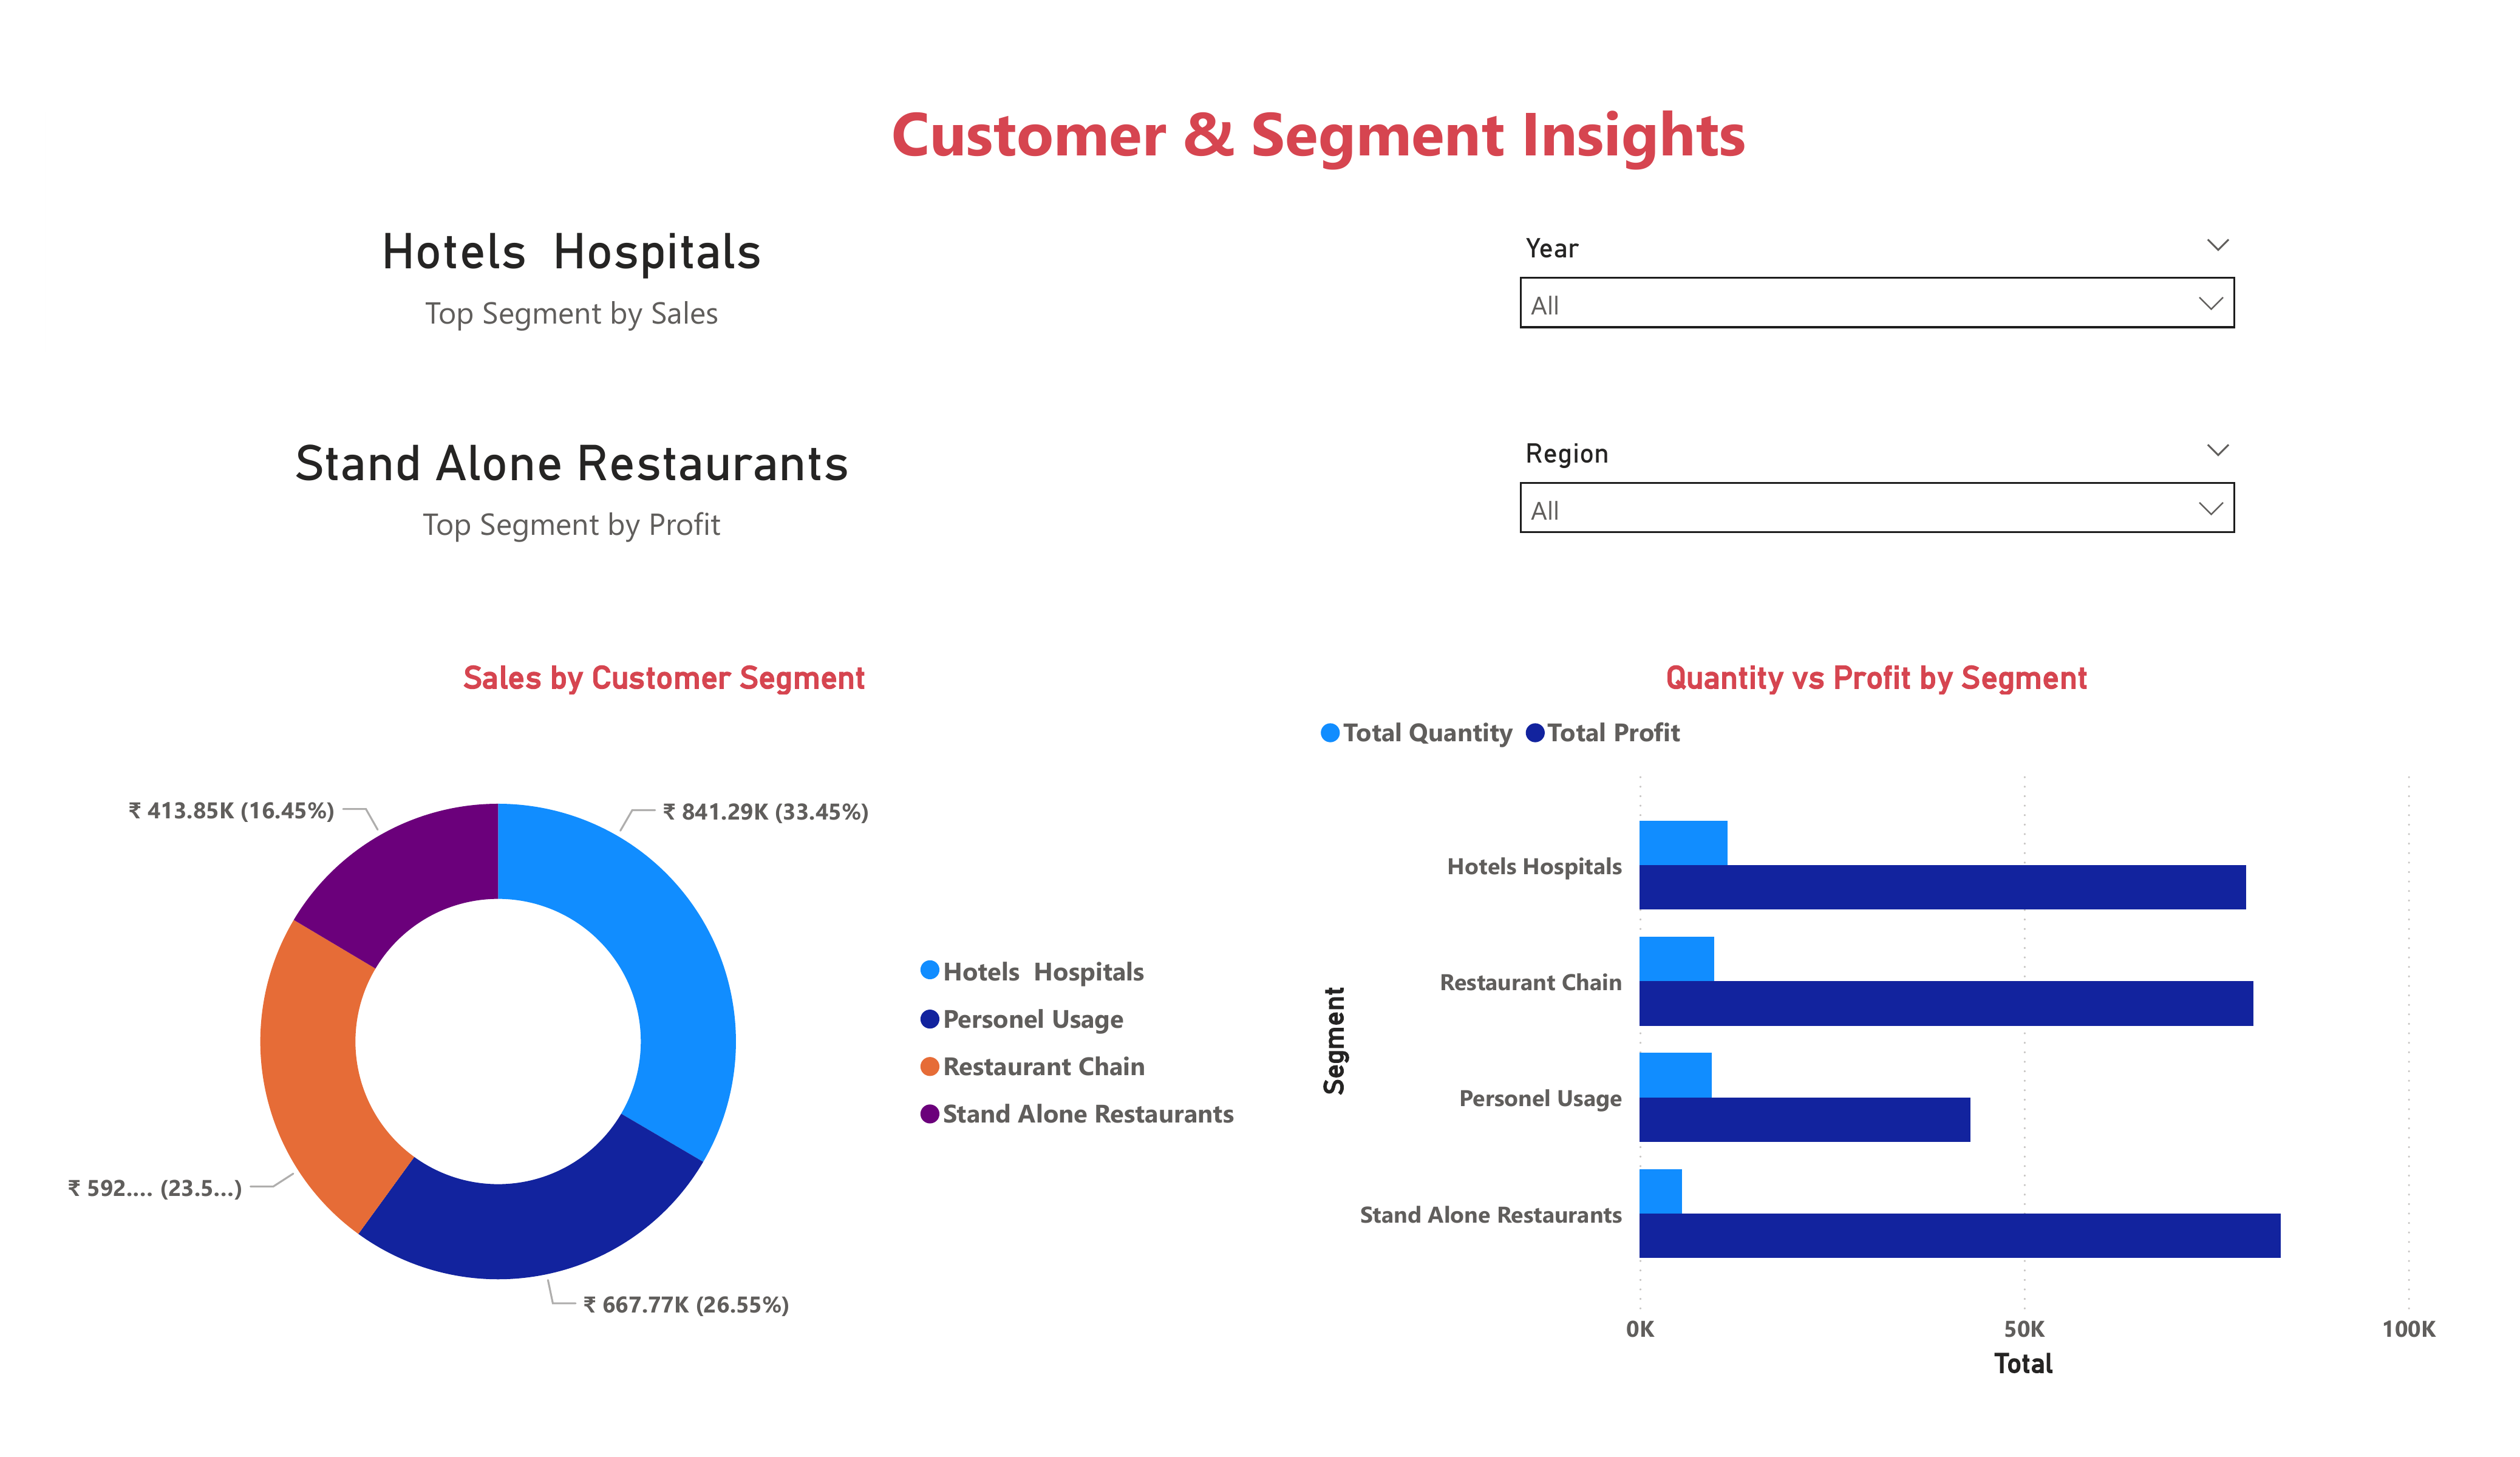

The page's visual inventory and layout, read from the dashboard file:
{"tool":"powerbi","page":{"name":"Customers","canvas":[1280,720],"ordinal":2},"visuals":[{"type":"donutChart","title":"Sales by Customer Segment","fields":{"Category":["Dim_Customer.Segment"],"Y":["Measure.Total Sales"]},"box":[11.8,323.3,628.9,385],"z":0},{"type":"clusteredBarChart","title":"Quantity vs Profit by Segment","fields":{"Category":["Dim_Customer.Segment"],"Y":["Measure.Total Quantity","Measure.Total Profit"]},"box":[665.6,323.3,599.5,385],"z":1000},{"type":"card","fields":{"Values":["Measure.Top Segment by Sales"]},"box":[51.3,73.5,452.9,88.9],"z":2000},{"type":"card","fields":{"Values":["Measure.Top Segment by Profit"]},"box":[51.3,186.3,452.9,85.4],"z":3000},{"type":"slicer","fields":{"Values":["Dim_Date.Year"]},"box":[767.3,94,396.5,68.4],"z":4000},{"type":"slicer","fields":{"Values":["Dim_Geography.Region"]},"box":[767.3,201.7,396.5,70.1],"z":5000},{"type":"textbox","box":[42.6,17.6,1190.2,55.8],"z":6000}]}

Visuals, with their boxes on the page's 1280x720 design canvas (x1, y1, x2, y2). These are canvas units, not pixel positions in the 2520x1457 screenshot, which may show the page scaled, cropped or inside an application window:
"Sales by Customer Segment" donutChart: 12,323,641,708
"Quantity vs Profit by Segment" clusteredBarChart: 666,323,1265,708
card - Measure.Top Segment by Sales: 51,74,504,162
card - Measure.Top Segment by Profit: 51,186,504,272
slicer - Dim_Date.Year: 767,94,1164,162
slicer - Dim_Geography.Region: 767,202,1164,272
textbox: 43,18,1233,73
